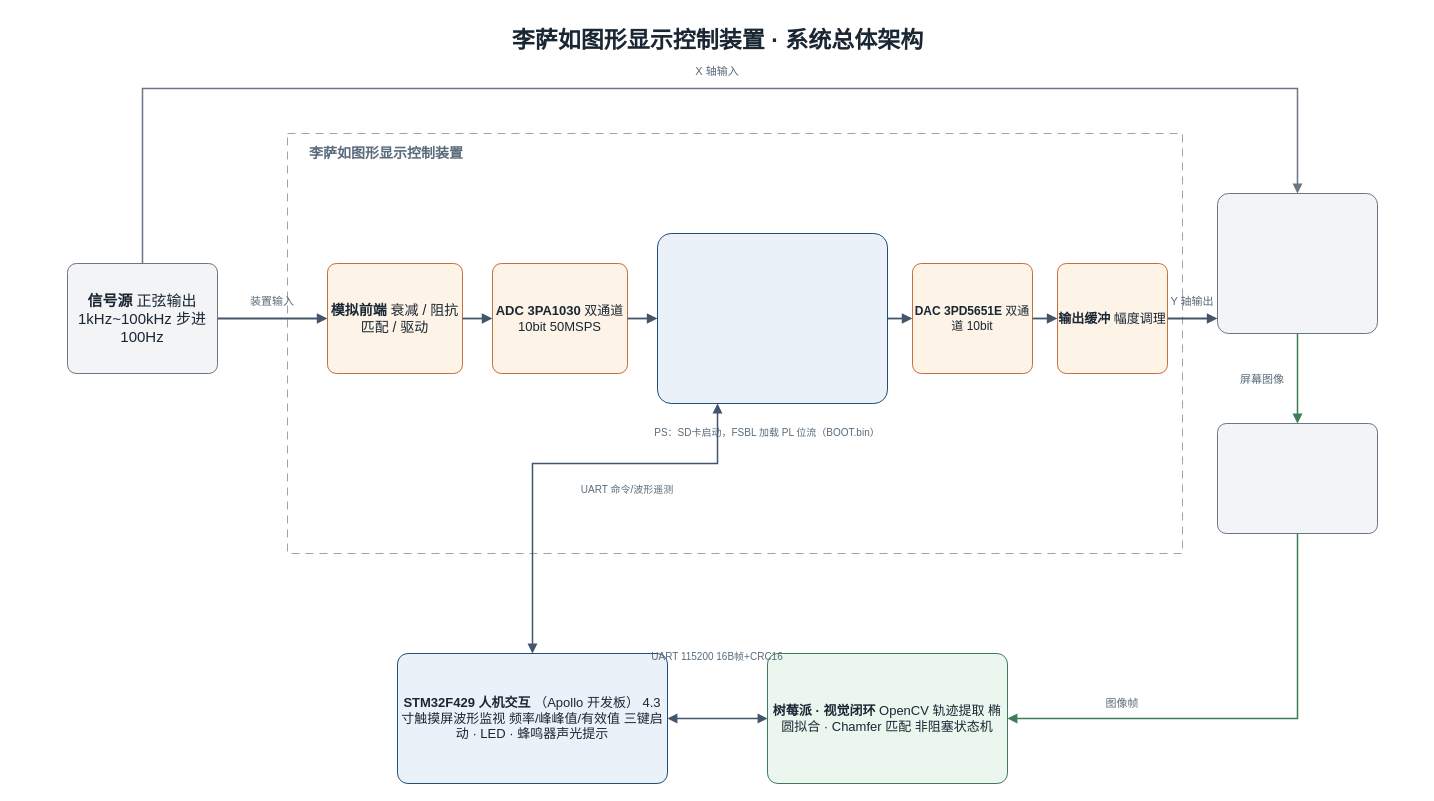
Image size: 1434x801. Some labels were removed from this diagram. Here are the shapes that lost their labels. From the top down, the box of each, then its label:
(1216, 192, 1378, 334): 示波器 X-Y 模式 X、Y 灵敏度 0.5V/div
(656, 232, 888, 404): Zynq-7020 PL（FPGA） 等精度测频 · 波形捕获(181点) DDS 正弦合成 · 数字移相 二倍频 · 程控幅度
(1216, 422, 1378, 534): 摄像头 720p@30fps V4L2
